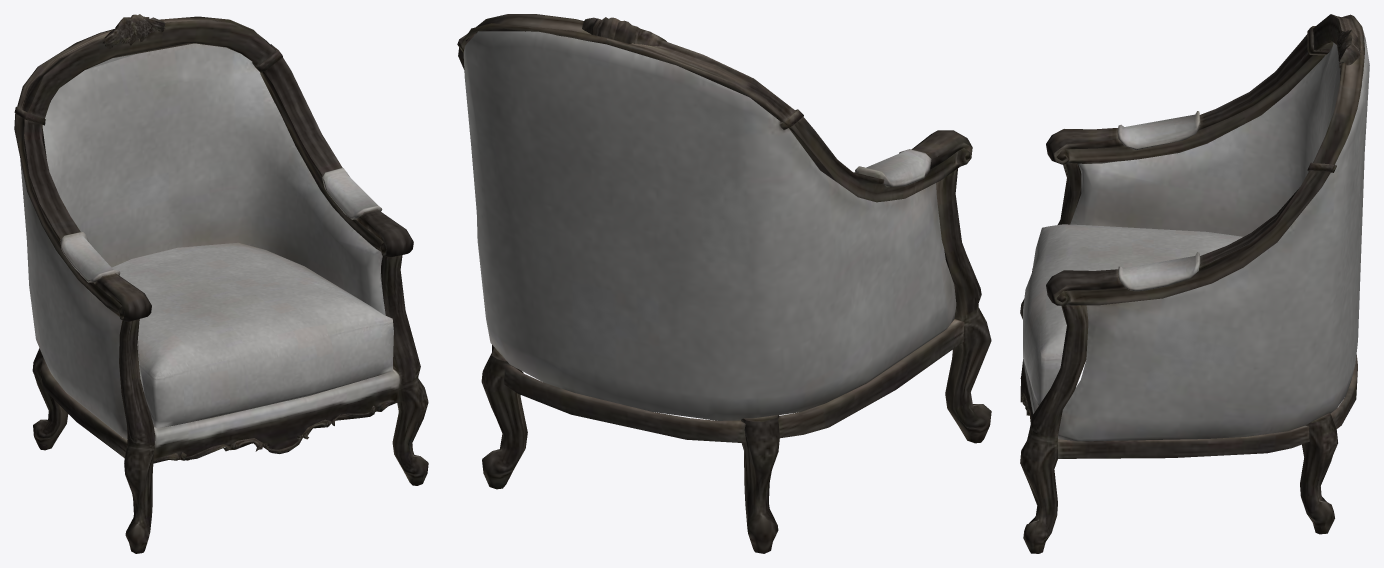
The model's file is ArmChair_01.glb.
3 views of the same model, side by side, from view 1: azimuth 30°, elevation 25°; view 2: azimuth 150°, elevation 25°; view 3: azimuth 270°, elevation 25° (orthographic). The views are drawn at different scales.
Parts seen in each view (by area): view 1: ArmChair_01; view 2: ArmChair_01; view 3: ArmChair_01.
Part boxes in pixels (box(x1,y1,x2,y2)): ArmChair_01: box(14, 14, 428, 553); ArmChair_01: box(457, 14, 991, 553); ArmChair_01: box(1020, 14, 1369, 553).
Bounding box in the file's own units: 0.8482 × 1.06 × 0.7655.
Materials: 1 (1 with a texture image).
